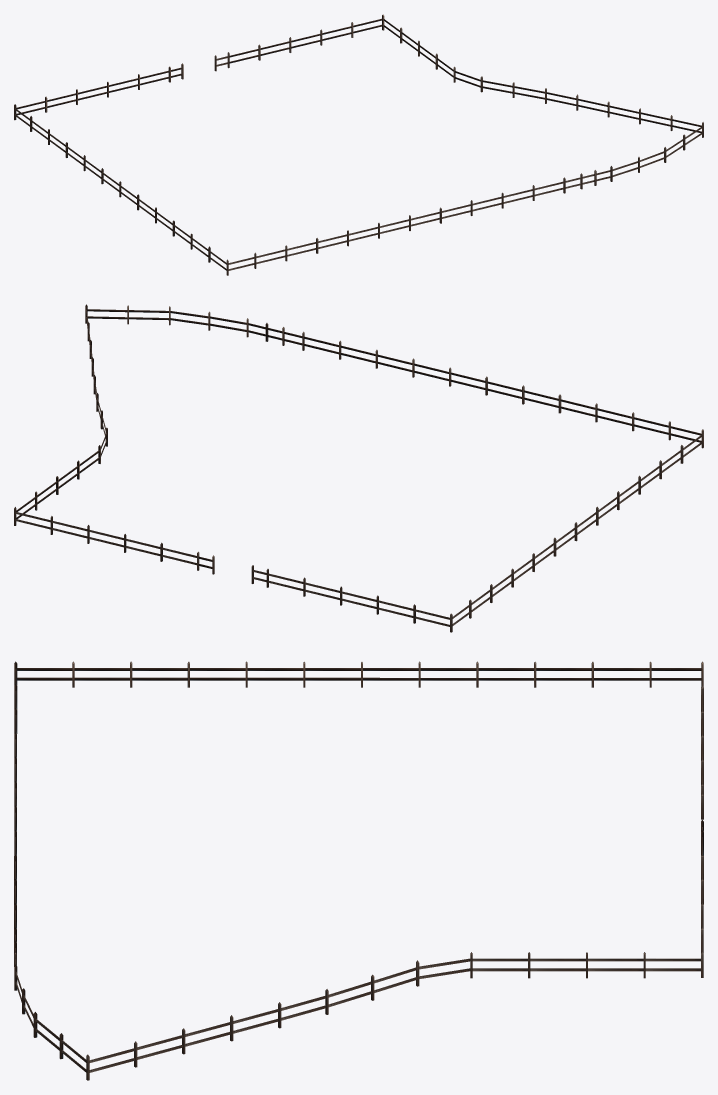
Rendered from CowFence.glb.
3 renders of one model, top to bottom at view 1: azimuth 30°, elevation 25°; view 2: azimuth 150°, elevation 25°; view 3: azimuth 270°, elevation 25°, orthographic. The views are drawn at different scales.
Parts seen in each view (by area): view 1: fence_board_top.899; view 2: fence_board_top.899; view 3: fence_board_top.899.
Boxes of the visible parts, x1,y1,x2,y2 form: fence_board_top.899: (14,14,703,275); fence_board_top.899: (14,304,703,632); fence_board_top.899: (14,661,703,1080).
Bounding box in the file's own units: 64.66 × 1.97 × 47.82.
41 materials, 41 textured.
